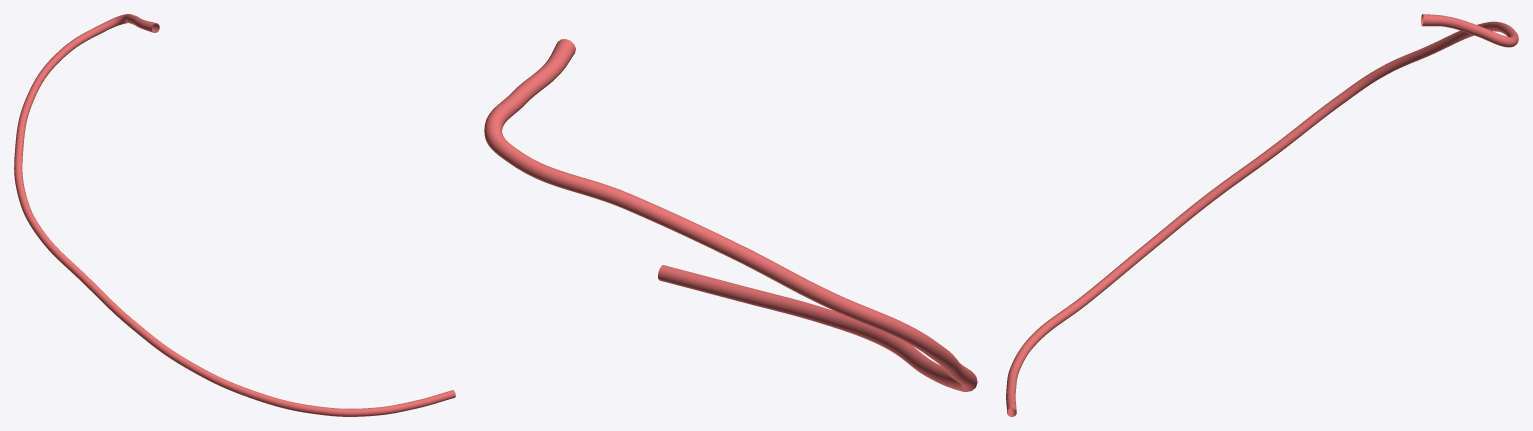
File: Second_posterior_intercostal_artery.r_BezierCurve.335.glb
3 renders of one model, left to right at view 1: azimuth 30°, elevation 25°; view 2: azimuth 150°, elevation 25°; view 3: azimuth 270°, elevation 25°, orthographic. The views are drawn at different scales.
Visible parts, largest first — view 1: Second_posterior_intercostal_artery.r_BezierCurve.335; view 2: Second_posterior_intercostal_artery.r_BezierCurve.335; view 3: Second_posterior_intercostal_artery.r_BezierCurve.335.
Part boxes in pixels (x1=…): Second_posterior_intercostal_artery.r_BezierCurve.335: x1=14, y1=14, x2=455, y2=416; Second_posterior_intercostal_artery.r_BezierCurve.335: x1=484, y1=39, x2=977, y2=391; Second_posterior_intercostal_artery.r_BezierCurve.335: x1=1006, y1=14, x2=1518, y2=416.
Bounding box in the file's own units: 0.0788 × 0.0746 × 0.1046.
